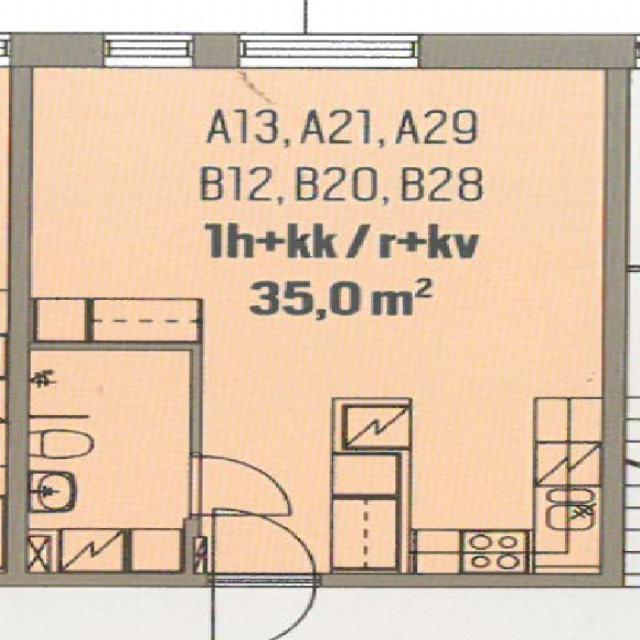door: (213, 509, 313, 589), (213, 574, 313, 640), (190, 455, 289, 514)
